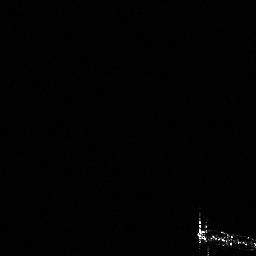ship: (197, 224, 256, 249)
